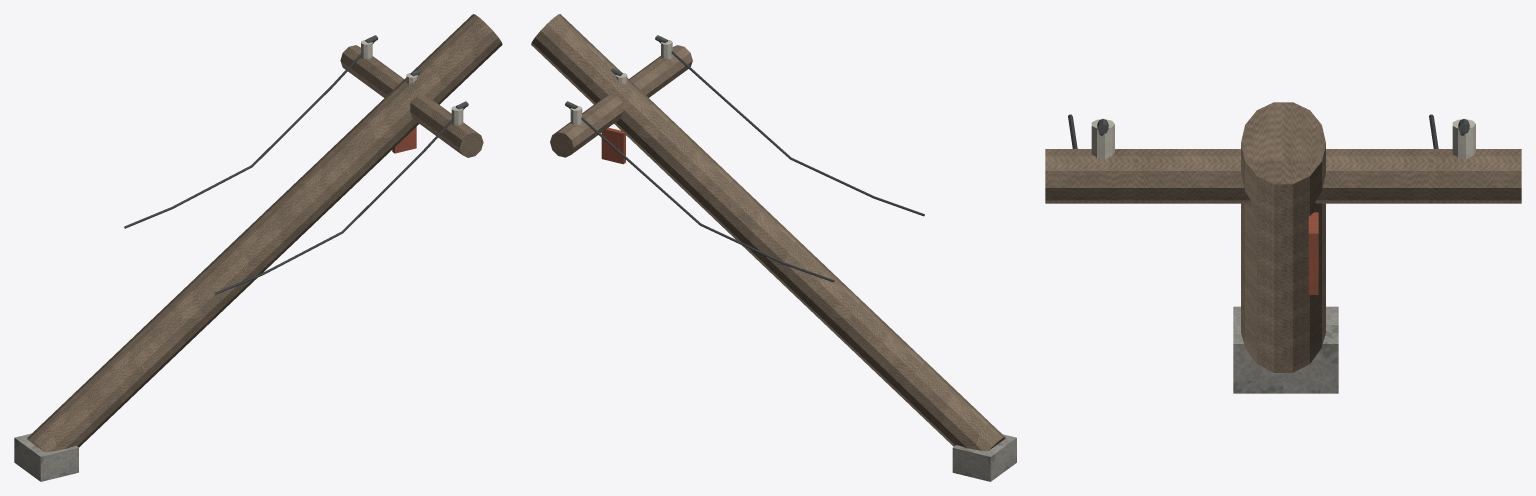
The model's file is fallen_utility_pole.glb.
3 renders of one model, left to right at view 1: azimuth 30°, elevation 25°; view 2: azimuth 150°, elevation 25°; view 3: azimuth 270°, elevation 25°, orthographic. The views are drawn at different scales.
Visible parts, largest first — view 1: DecorativeStaticModel; view 2: DecorativeStaticModel; view 3: DecorativeStaticModel.
Boxes of the visible parts, left/top/right/bottom form: DecorativeStaticModel: left=14, top=14, right=502, bottom=481; DecorativeStaticModel: left=531, top=14, right=1016, bottom=481; DecorativeStaticModel: left=1045, top=102, right=1521, bottom=393.
Bounding box in the file's own units: 4.32 × 3.05 × 1.9.
7 materials, 7 textured.
